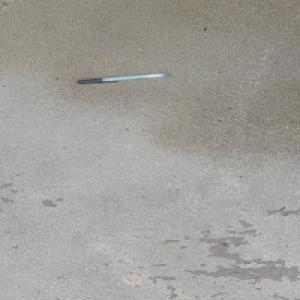Pen: (76, 72, 169, 85)
